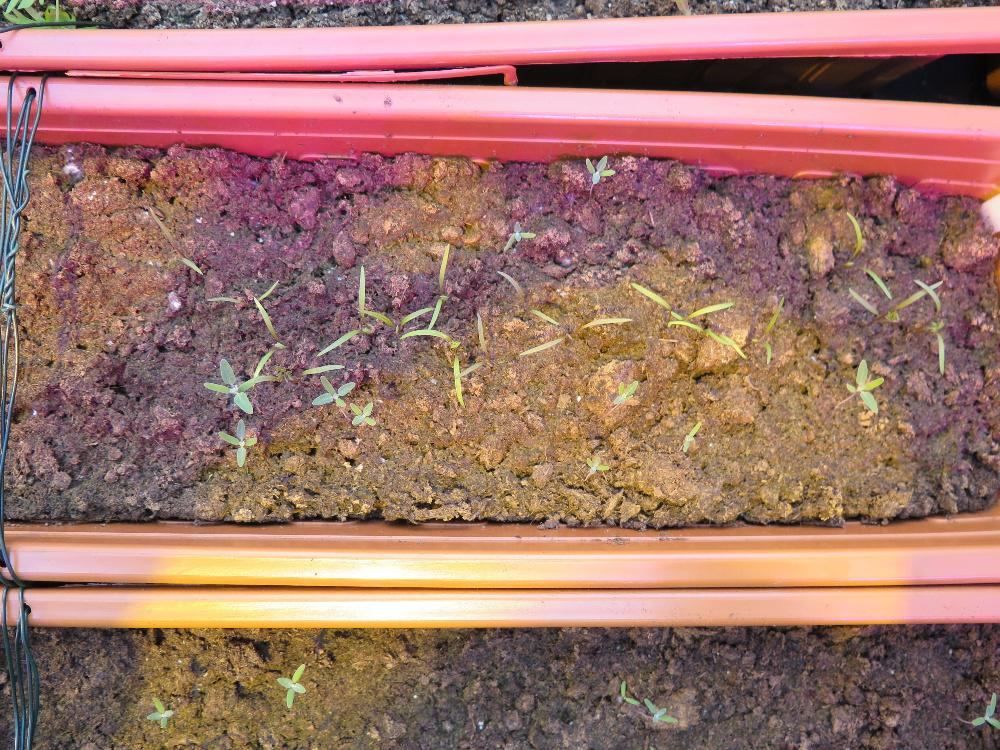weed: (843, 357, 884, 413), (216, 416, 257, 467), (275, 661, 305, 707), (143, 692, 174, 729), (502, 219, 535, 252), (642, 695, 677, 725), (584, 153, 615, 185), (612, 376, 638, 405), (348, 401, 376, 425), (681, 419, 701, 452), (619, 677, 639, 705), (584, 455, 609, 474)
